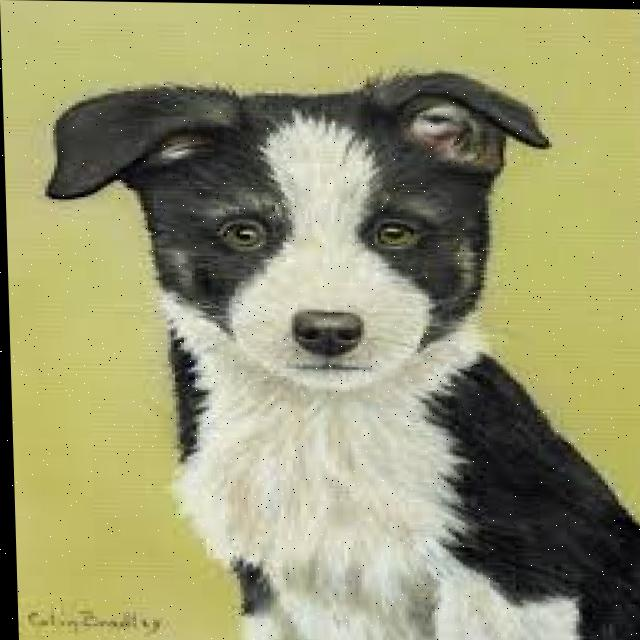BORDER_COLLIE: (17, 47, 640, 640)
